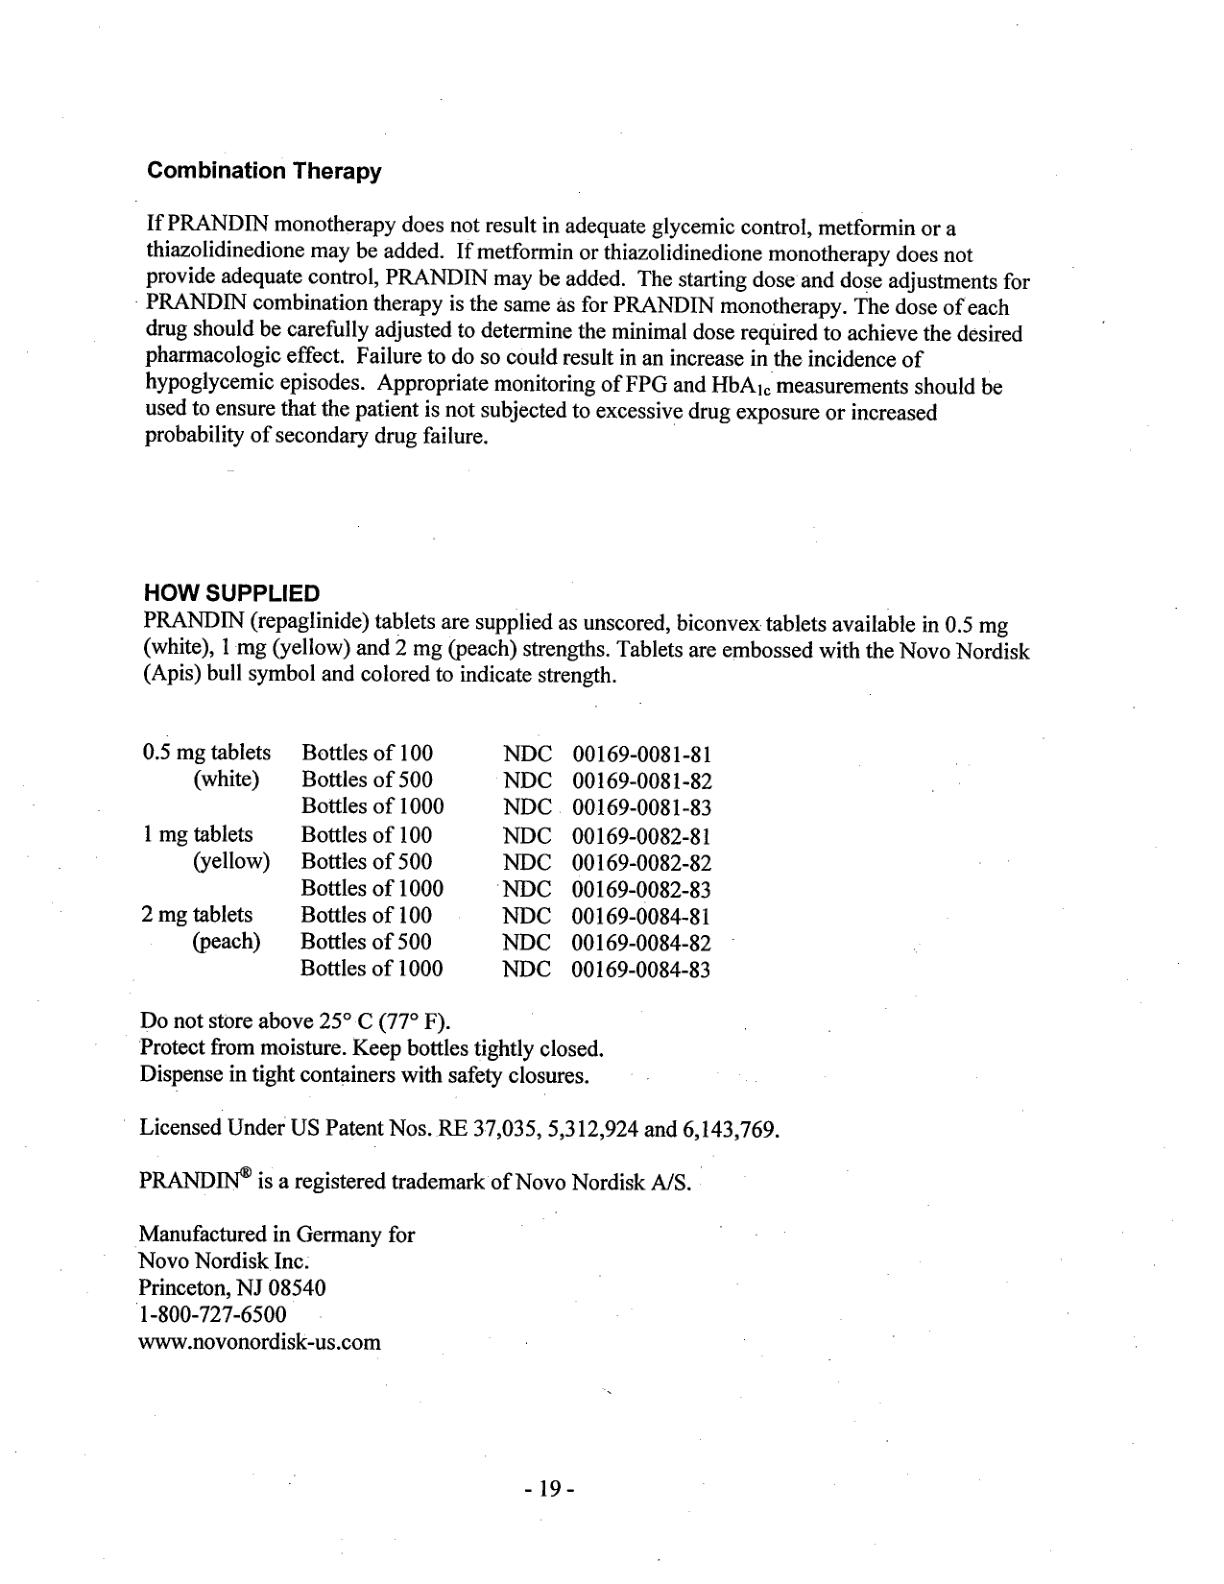nolines: (138, 734, 715, 984)
